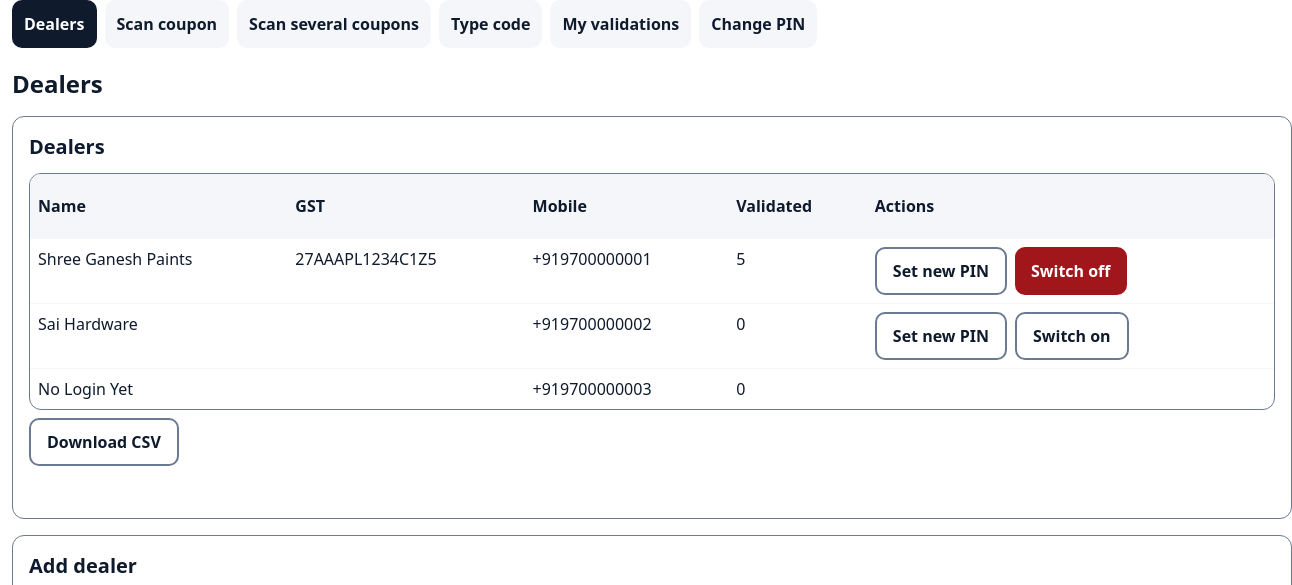
Scenario: distributor and sales rep: dealers › a PIN reset that fails for another reason says so
The width and height of the screenshot is (1292, 585).
Click the button "Set new PIN" in the row of "Shree Ganesh Paints" at (941, 271), box [875, 247, 1007, 295]
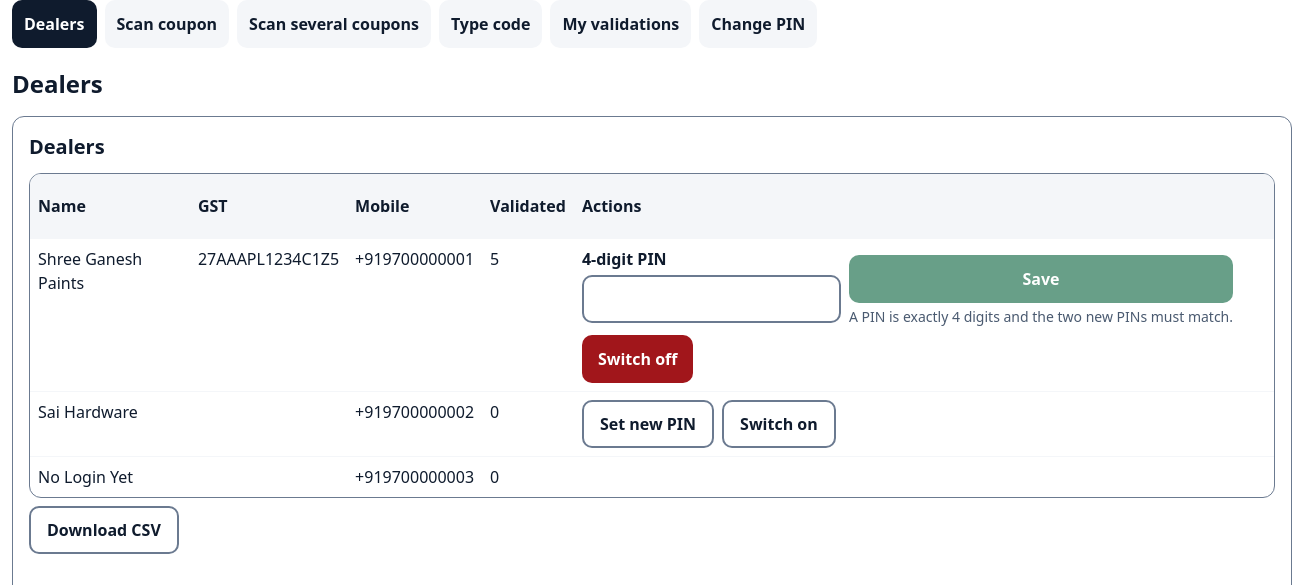
Type "2468" into the password field labelled "4-digit PIN" at (711, 299), box [582, 275, 841, 323]
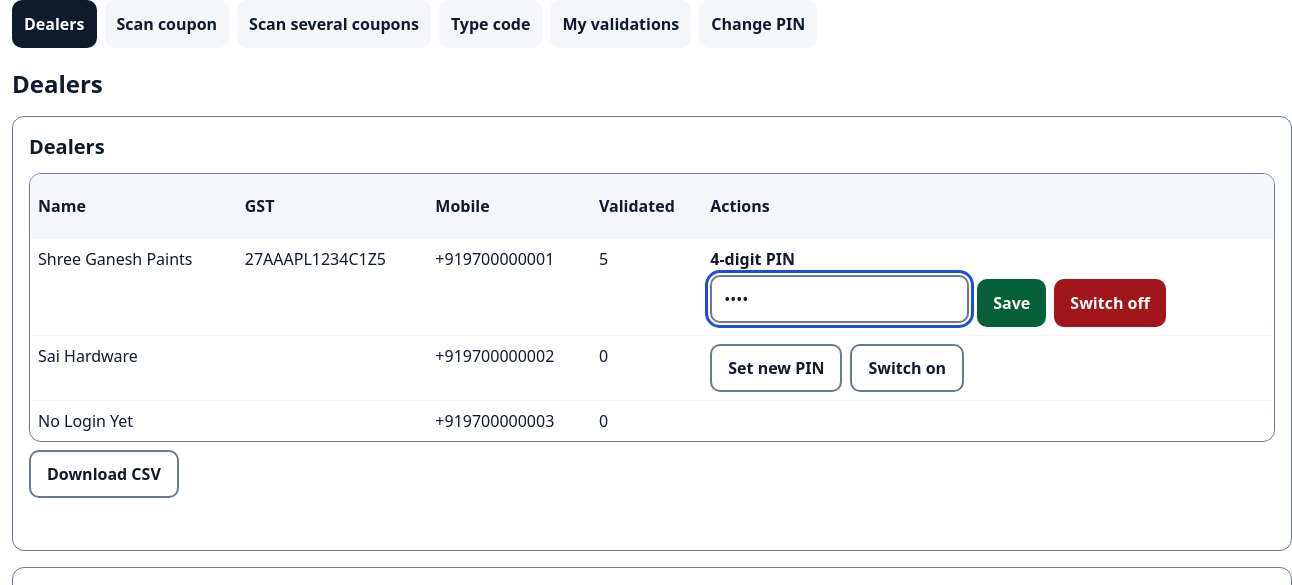
Click the button "Save" at (1012, 303), box [977, 279, 1046, 327]
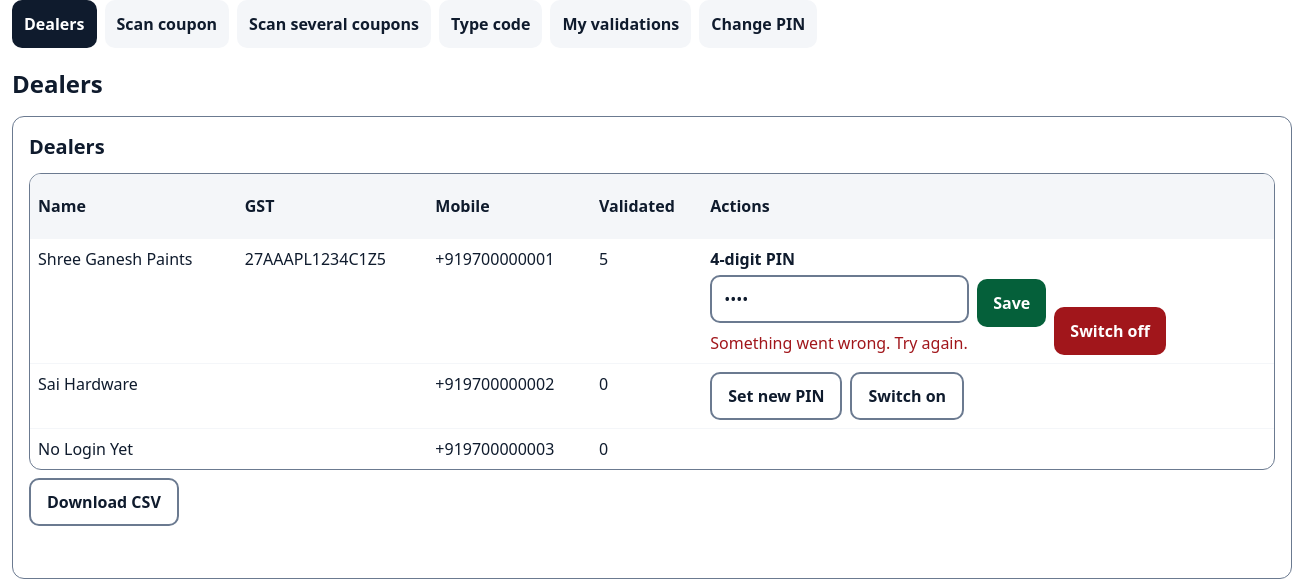
Expected: the text "Something went wrong. Try again." is shown, [710, 332, 968, 354]
